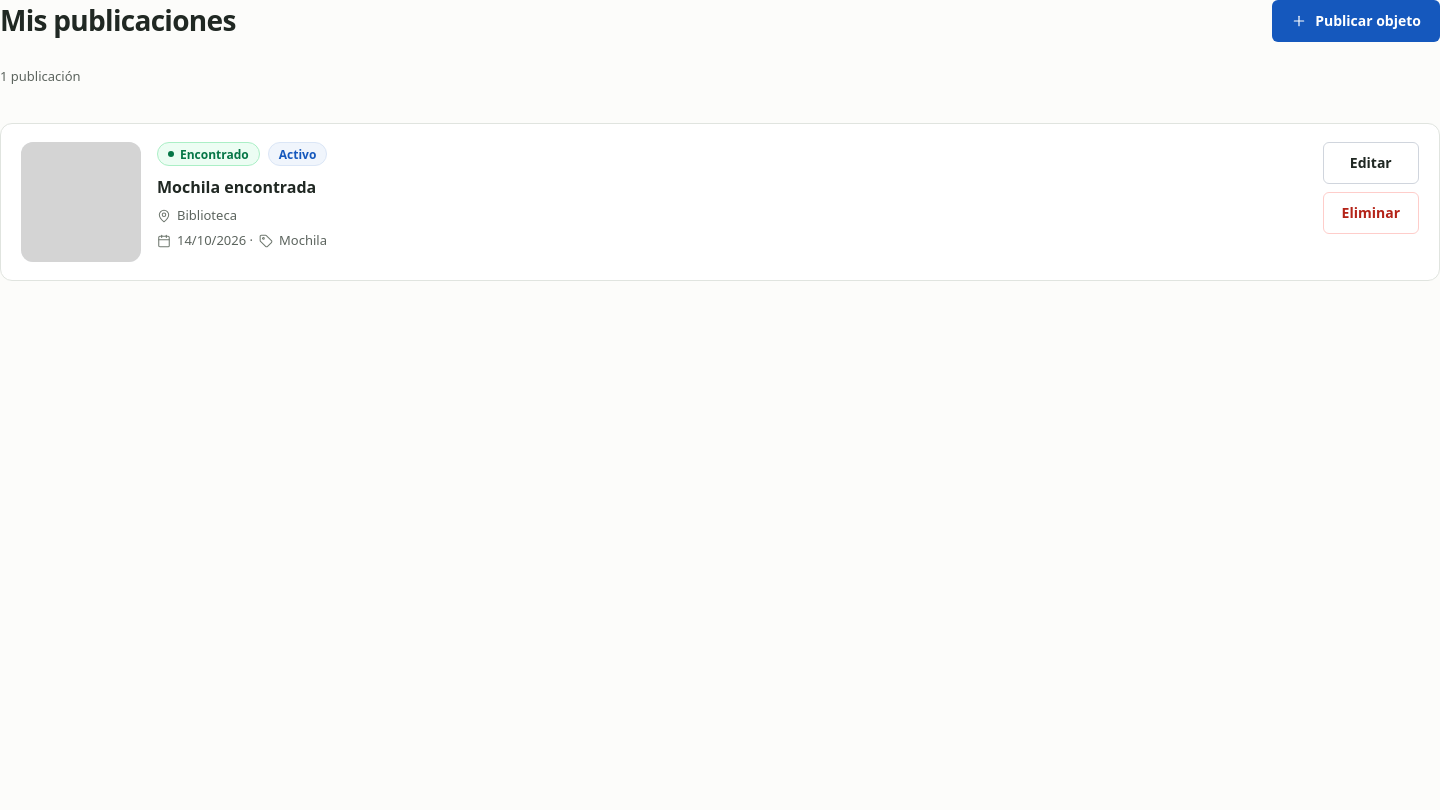
Test: H14 - Mis publicaciones › Escape cierra el modal sin eliminar
Click the button with aria-label "Eliminar Mochila encontrada" at (1371, 213), box [1323,192,1419,234]
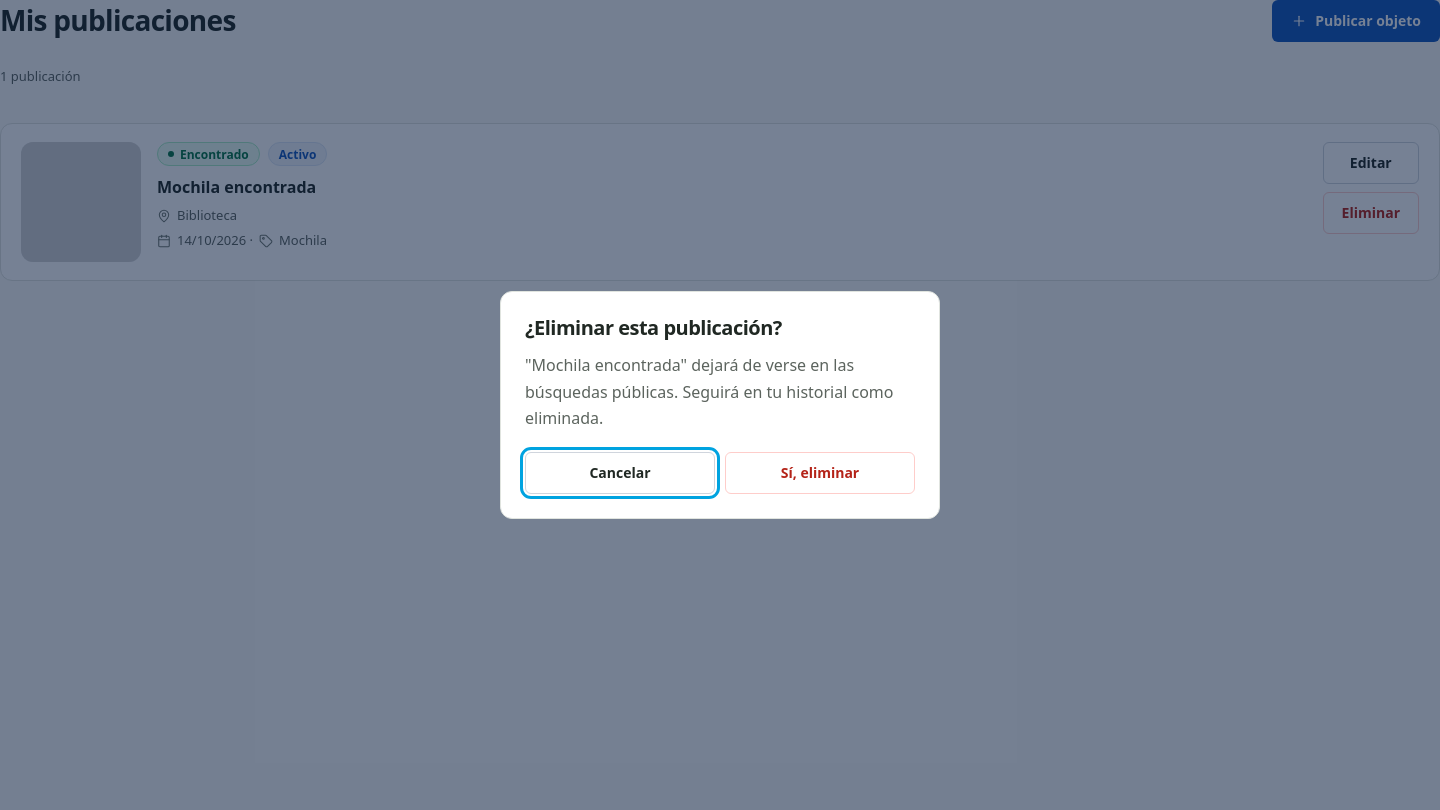
Press Escape
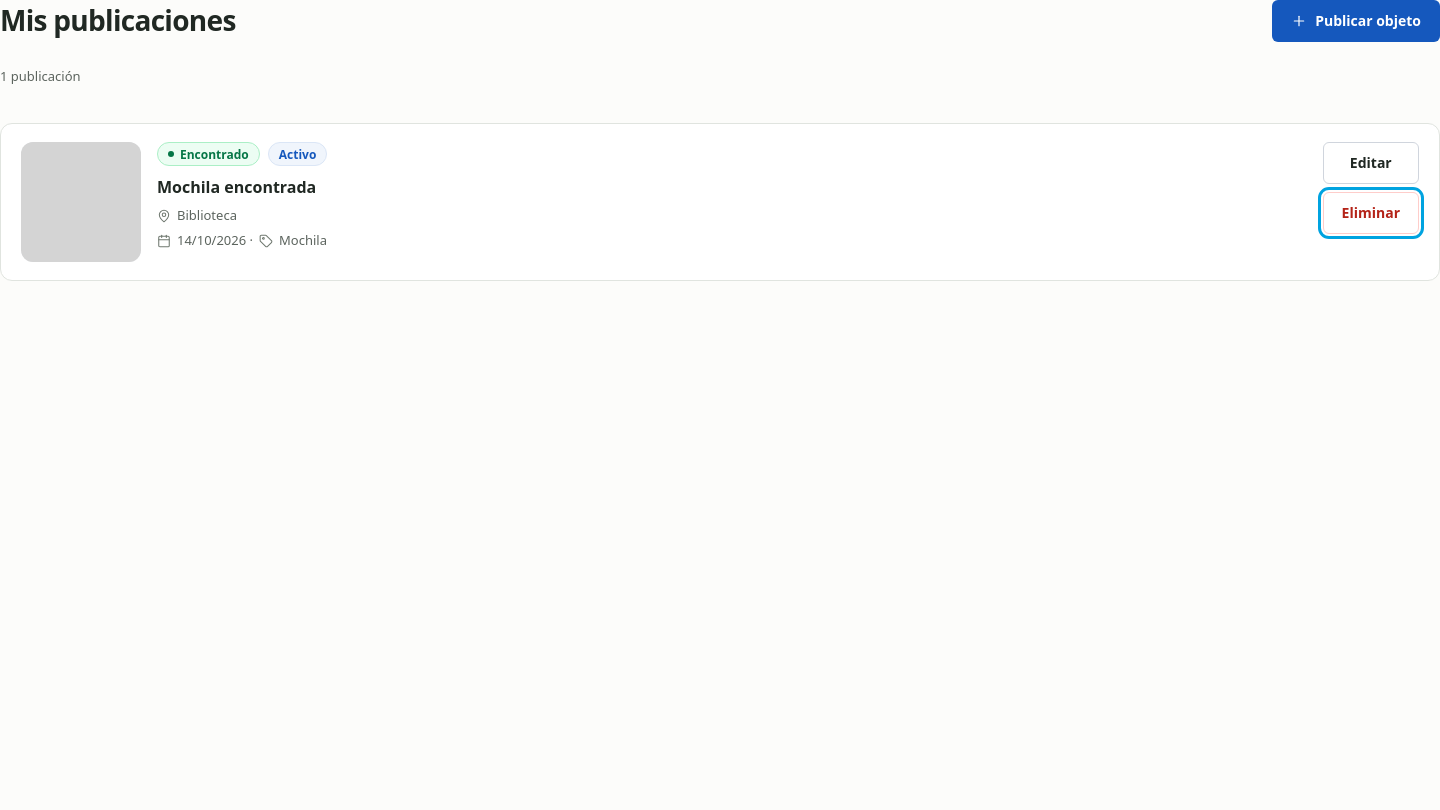
Expected: the dialog is gone
